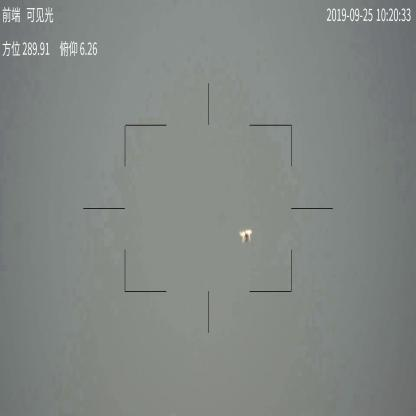uav: (235, 222, 254, 246)
